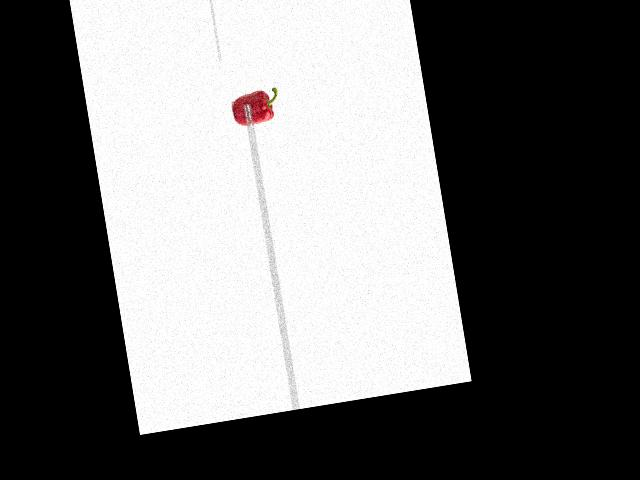bell_pepper: (230, 82, 284, 130)
